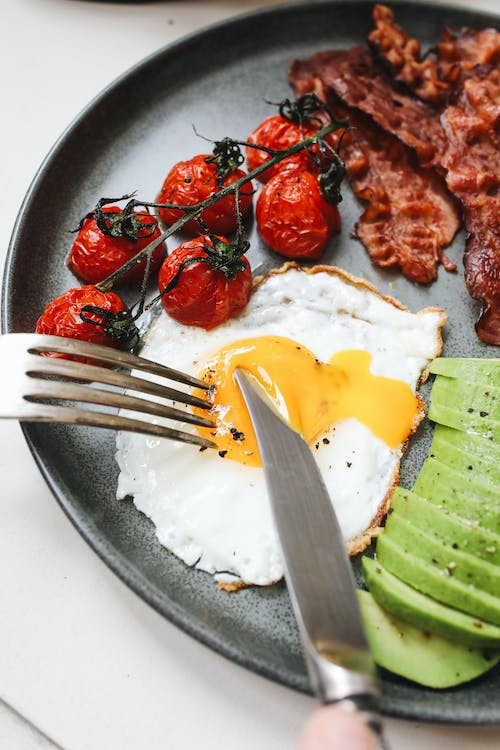knife: (230, 361, 389, 750)
